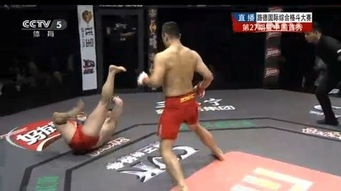falling: (30, 60, 133, 151)
